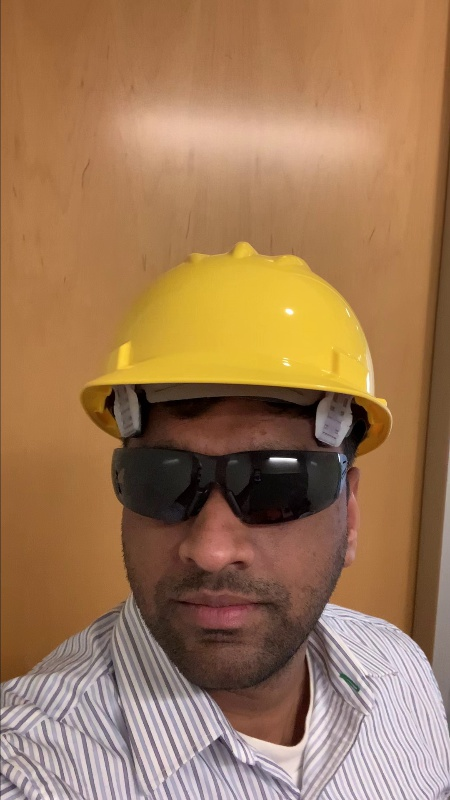glasses: (106, 436, 356, 528)
helmet: (77, 236, 395, 444)
